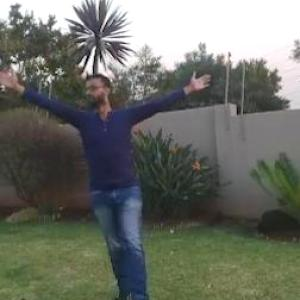takeoff: (1, 32, 244, 299)
